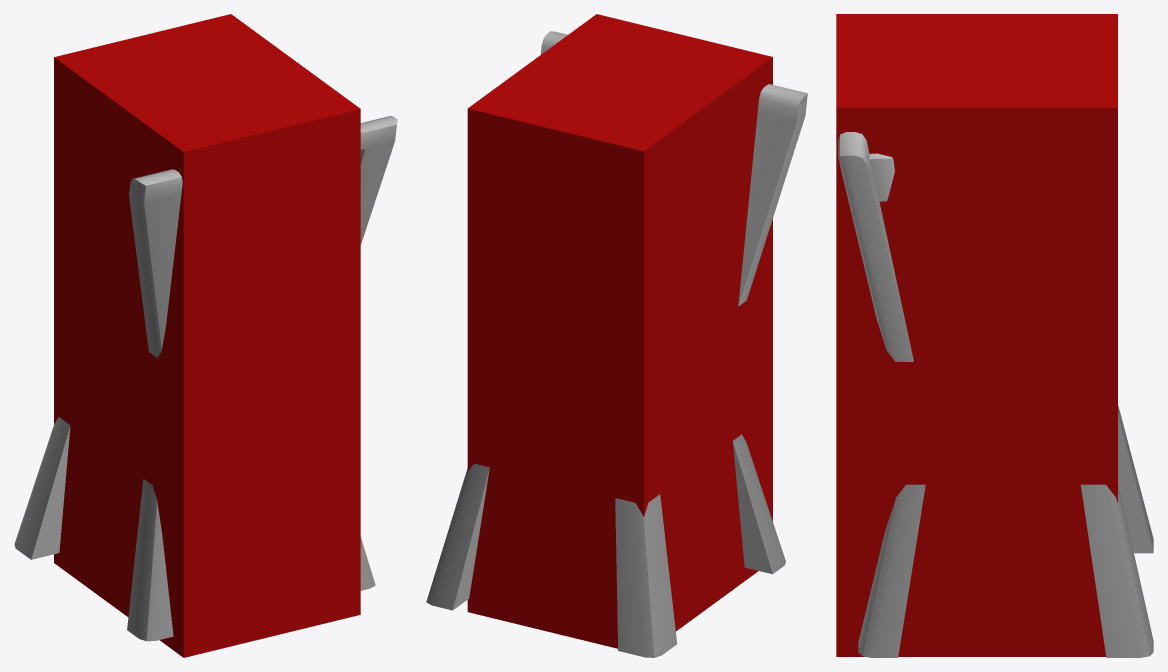
Rendered from diningChair.fbx.
3 views of the same model, side by side, from view 1: azimuth 30°, elevation 25°; view 2: azimuth 150°, elevation 25°; view 3: azimuth 270°, elevation 25° (orthographic). The views are drawn at different scales.
Visible parts, largest first — view 1: diningChair_Col, diningChair; view 2: diningChair_Col, diningChair; view 3: diningChair_Col, diningChair.
Part boxes in pixels (x1,y1,x2,y2): diningChair_Col: (54,14,360,657); diningChair: (14,116,397,641); diningChair_Col: (467,14,772,648); diningChair: (426,31,807,657); diningChair_Col: (836,14,1117,656); diningChair: (838,132,1153,657).
Size of the model in its own units: 67.75 by 127 by 66.48.
